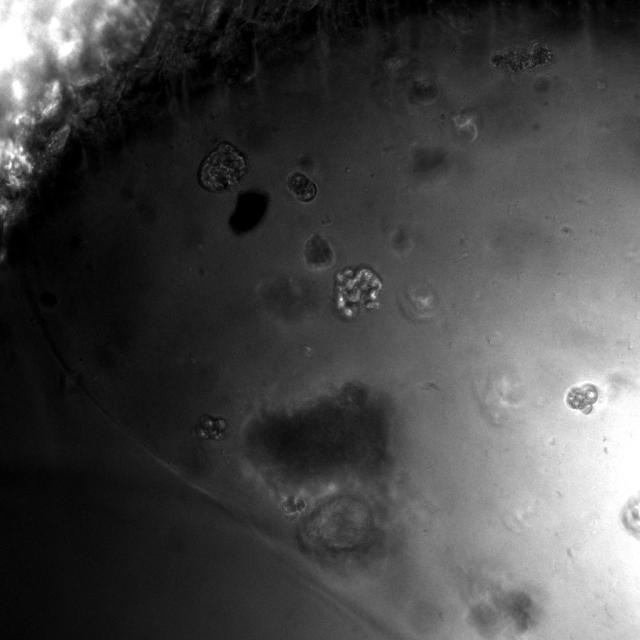organoid: (296, 494, 383, 561), (333, 266, 382, 319), (198, 141, 248, 192), (491, 42, 553, 72), (302, 233, 334, 271), (286, 171, 317, 203), (566, 383, 598, 413), (194, 414, 226, 441), (280, 495, 306, 517)
